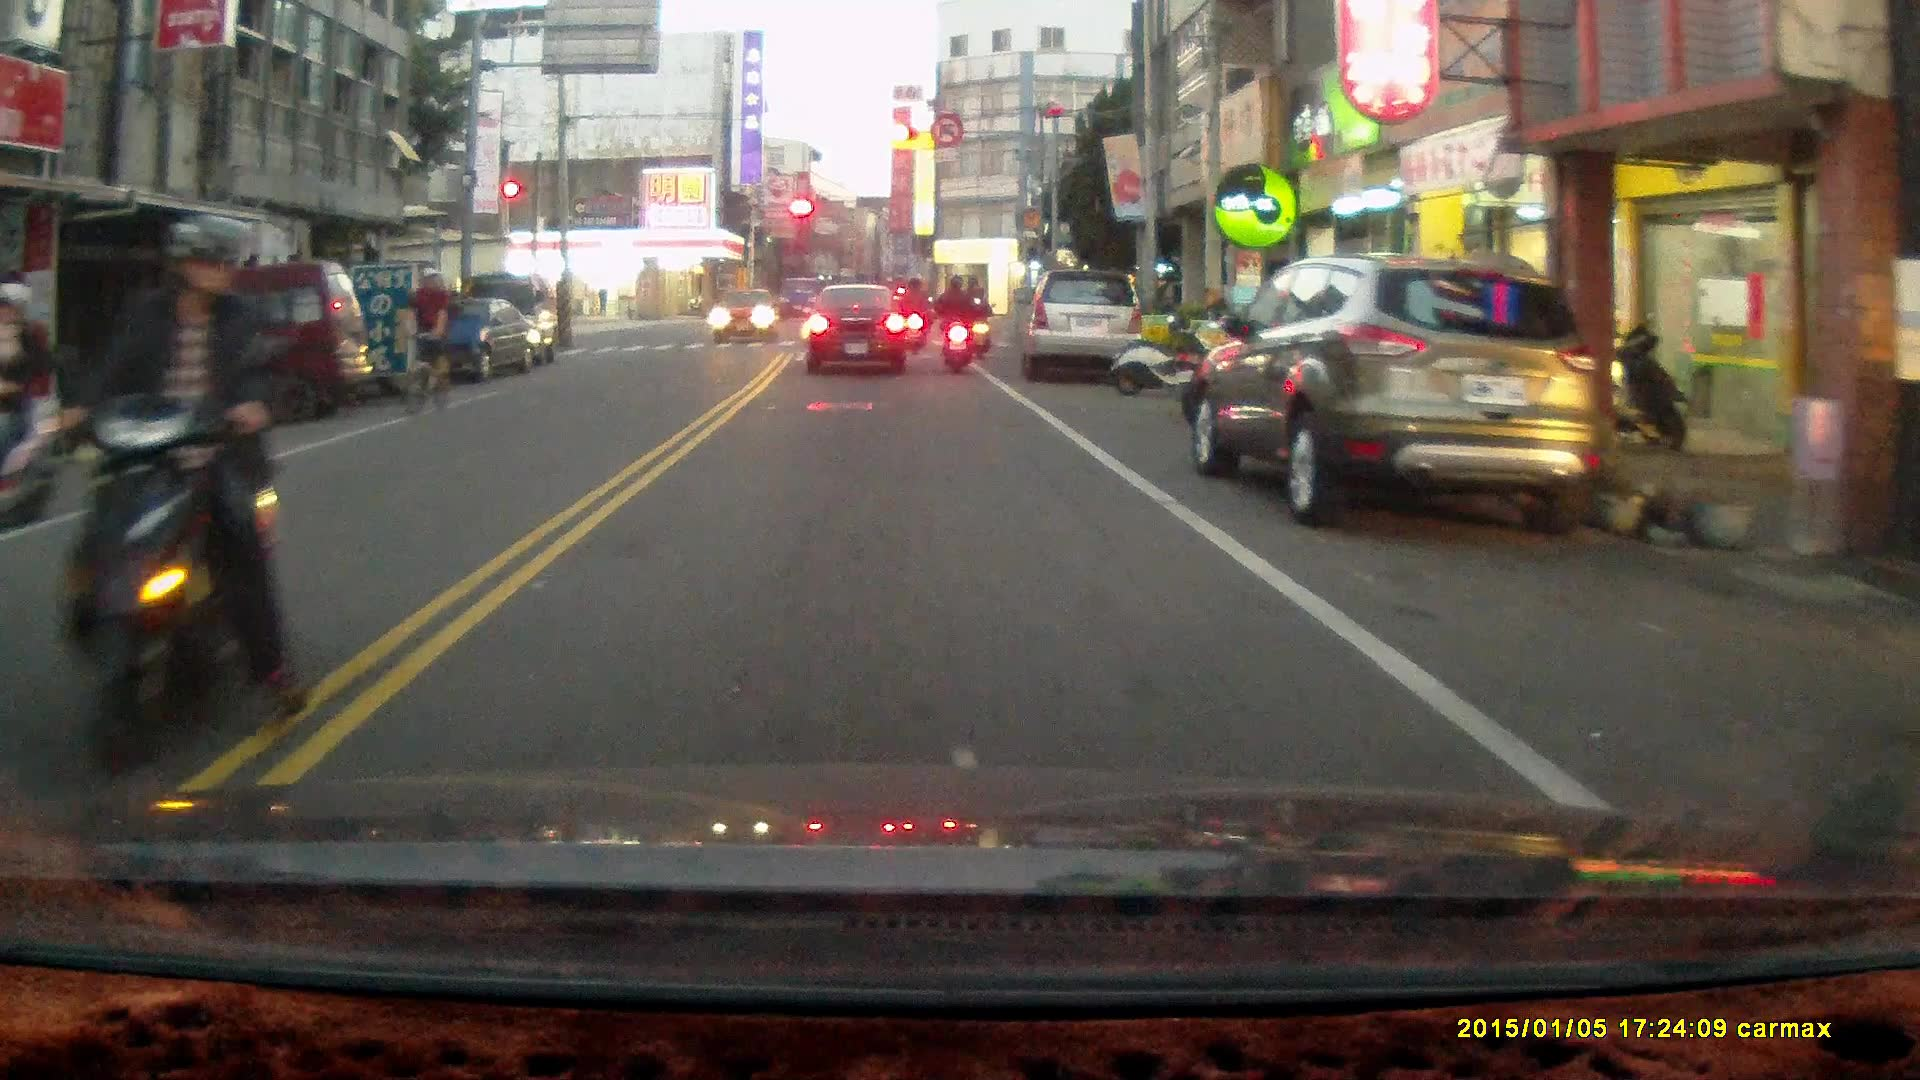rider: (45, 211, 309, 778), (0, 278, 64, 536), (401, 269, 453, 418), (929, 271, 977, 377), (896, 274, 930, 356), (962, 281, 992, 359)
vehicle: (1191, 254, 1596, 538), (104, 262, 376, 431), (1025, 270, 1149, 385), (414, 297, 537, 385), (808, 282, 913, 374), (708, 286, 777, 343)
